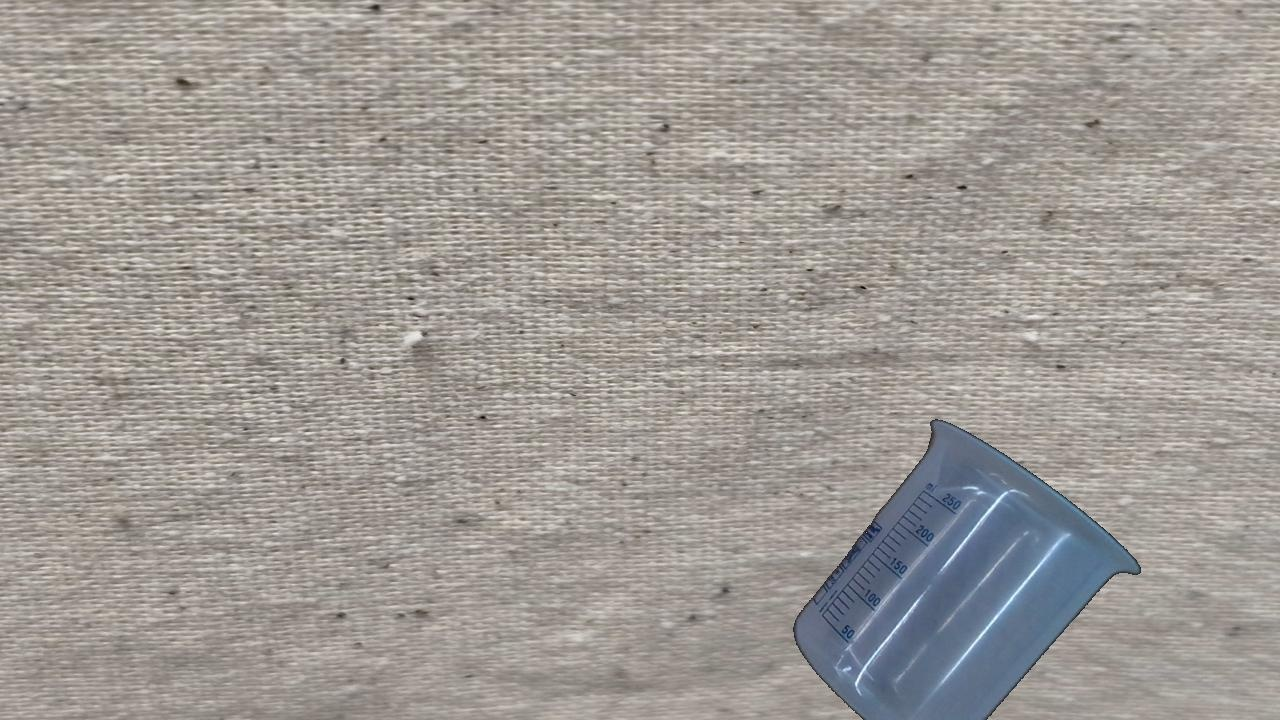becker: (793, 417, 1143, 715)
